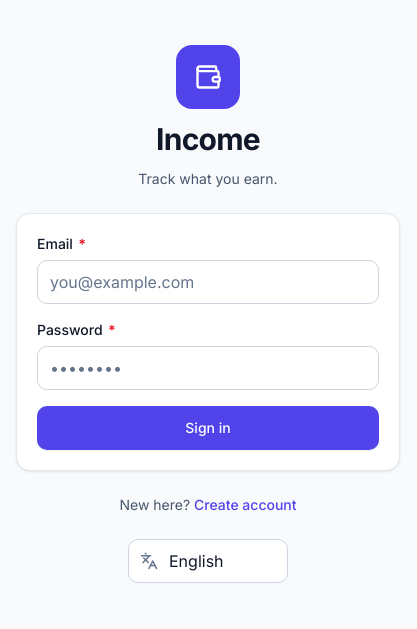
it: SignInPage › shows an inline error when sign-in fails
In the field labelled "Email *": (208, 282) x1=37 y1=260 x2=379 y2=304, type "a@b.com"
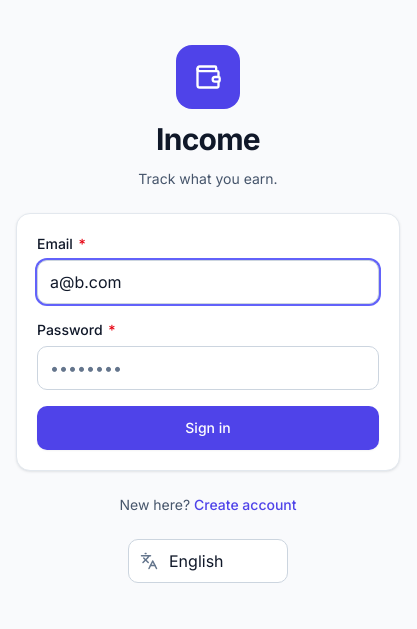
In the password field labelled "Password *": (208, 368) x1=37 y1=346 x2=379 y2=390, type "password123"
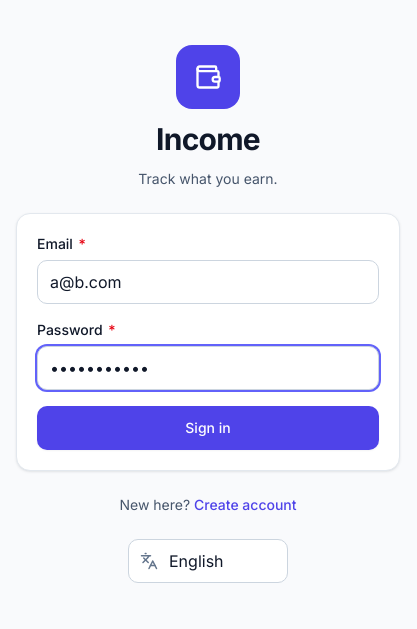
Click the button "Sign in": (208, 428) x1=37 y1=406 x2=379 y2=450
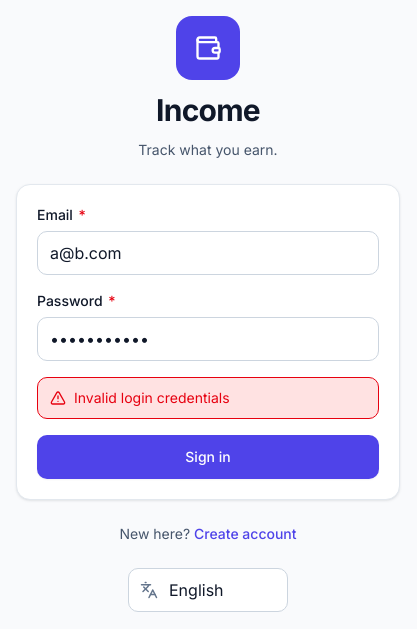
Check: the text "Invalid login credentials" is shown, box x1=74 y1=388 x2=230 y2=408
